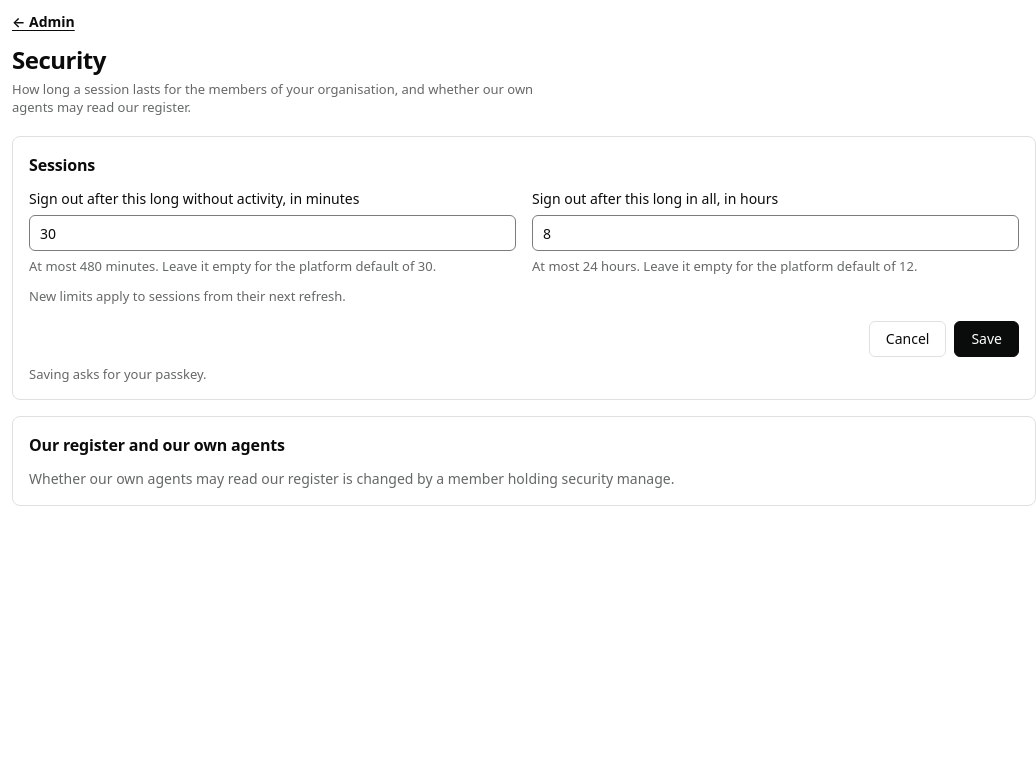
Test: the security page › saves both limits through the passkey step-up, an empty field as the platform default
Clear the field labelled "Sign out after this long without activity, in minutes": [272, 233] box left=29, top=215, right=516, bottom=251
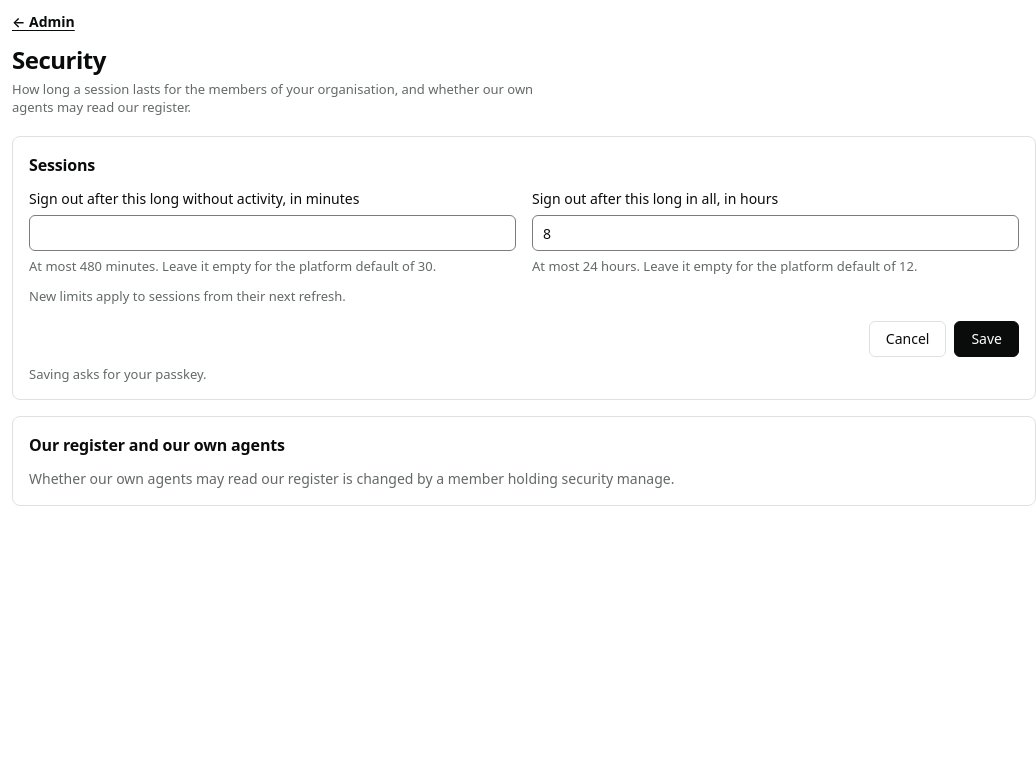
Replace the text in the field labelled "Sign out after this long in all, in hours" with "10": [776, 233] box left=532, top=215, right=1019, bottom=251
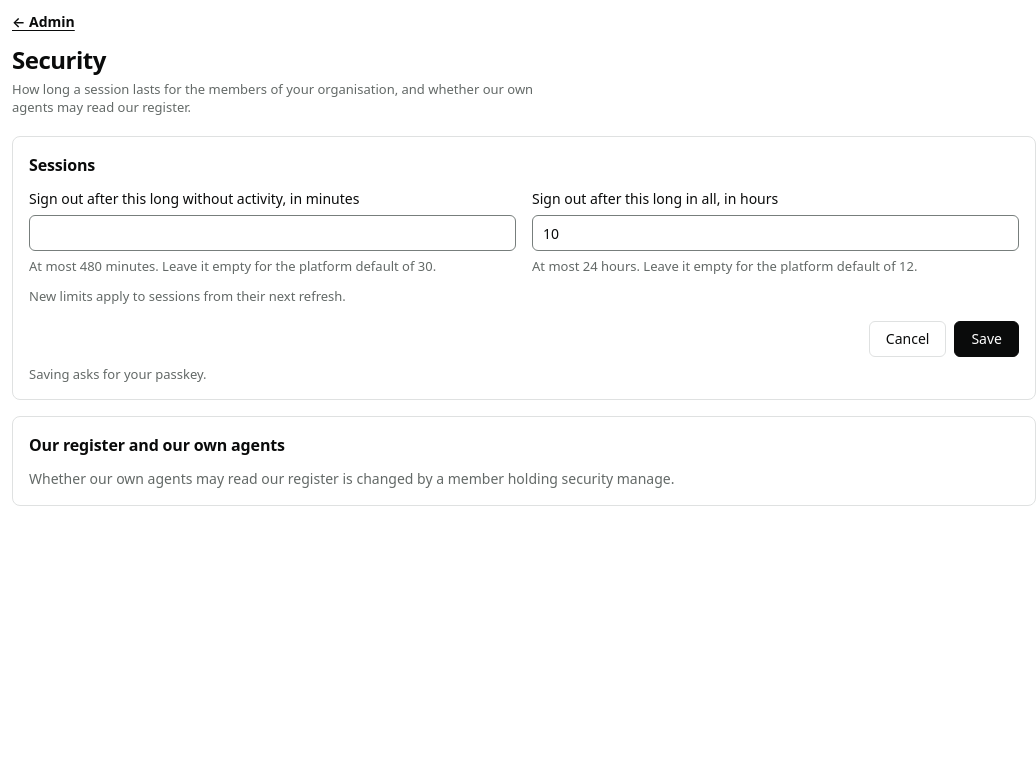
Click the button "Save": [987, 339] box left=954, top=321, right=1019, bottom=357
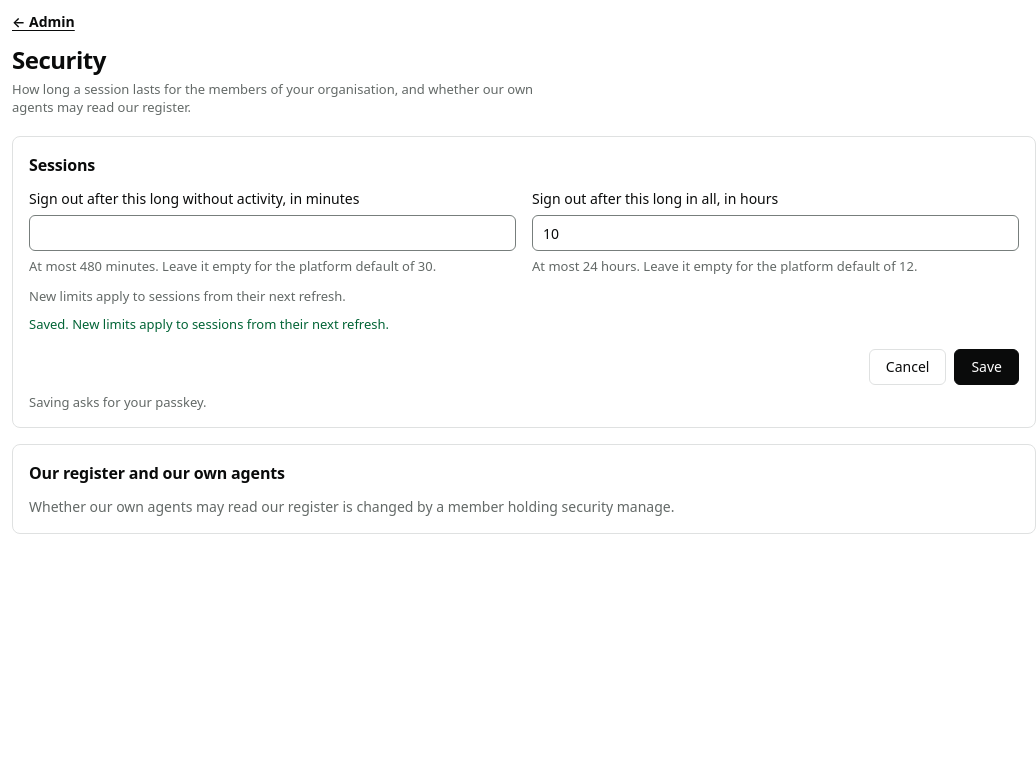
expect the text "Saved. New limits apply to sessions from their next refresh." is shown: met, box left=29, top=315, right=389, bottom=333
